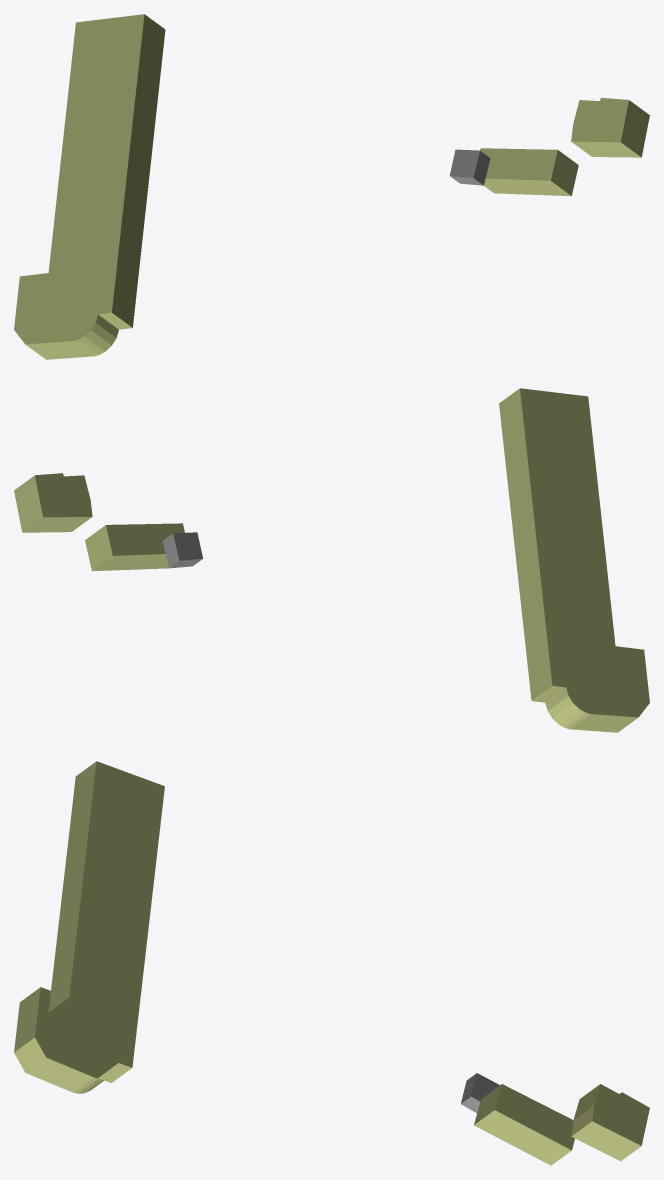
3 views of the same model, one above another, from view 1: azimuth 30°, elevation 25°; view 2: azimuth 150°, elevation 25°; view 3: azimuth 330°, elevation 25° (orthographic).
Visible parts, largest first — view 1: 0_1_0_0_1_0_0_3; view 2: 0_1_0_0_1_0_0_3; view 3: 0_1_0_0_1_0_0_3.
Boxes of the visible parts, x1,y1,x2,y2 form: 0_1_0_0_1_0_0_3: (14,14,649,359); 0_1_0_0_1_0_0_3: (14,388,649,732); 0_1_0_0_1_0_0_3: (14,761,649,1165).
Size of the model in its own units: 102 by 50.2 by 6.3.
